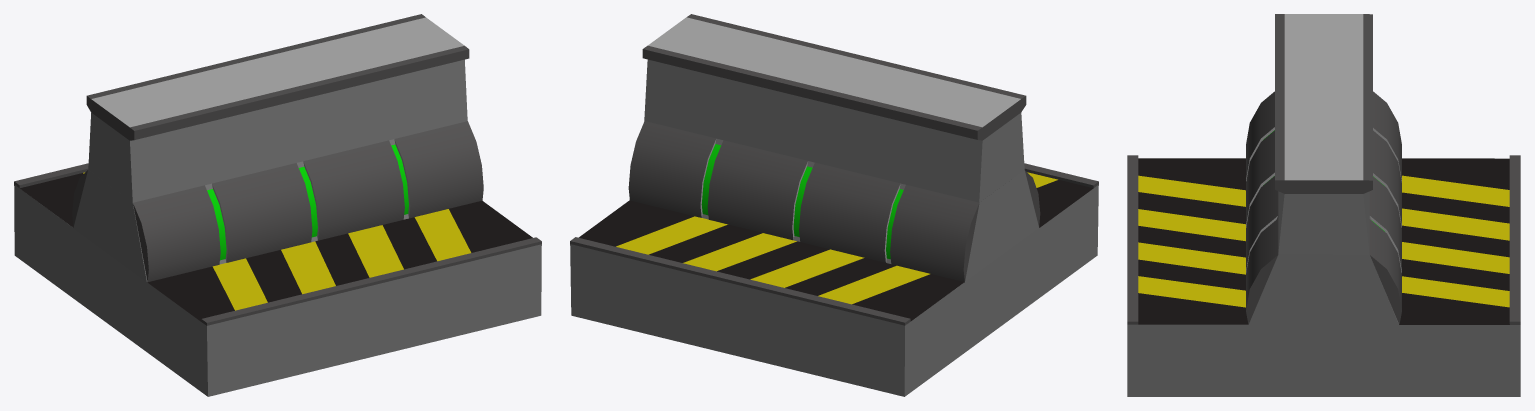
The model's file is Robot_Floor_Border_DoubleSided.fbx.
3 views of the same model, side by side, from view 1: azimuth 30°, elevation 25°; view 2: azimuth 150°, elevation 25°; view 3: azimuth 270°, elevation 25° (orthographic).
Visible parts, largest first — view 1: Robot_Floor_Border_DoubleSided; view 2: Robot_Floor_Border_DoubleSided; view 3: Robot_Floor_Border_DoubleSided.
Boxes of the visible parts, <box> form: Robot_Floor_Border_DoubleSided: <box>14,14,541,396</box>; Robot_Floor_Border_DoubleSided: <box>570,14,1098,396</box>; Robot_Floor_Border_DoubleSided: <box>1127,14,1520,396</box>.
Bounding box in the file's own units: 5.01 × 5 × 3.04.
